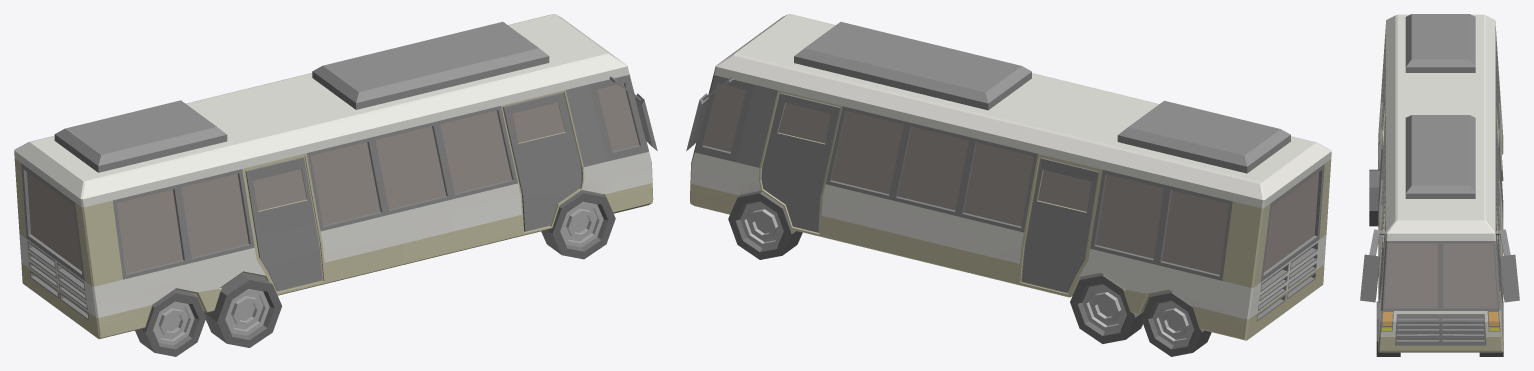
File: BusWithWheels.fbx
3 renders of one model, left to right at view 1: azimuth 30°, elevation 25°; view 2: azimuth 150°, elevation 25°; view 3: azimuth 270°, elevation 25°, orthographic. The views are drawn at different scales.
Visible parts, largest first — view 1: Bus, w5, w4, w6; view 2: Bus, w2, w1, w3; view 3: Bus, w5, w4, w1.
Part boxes in pixels (x1,y1,x2,y2): Bus: [14, 14, 657, 339]; w5: [203, 272, 281, 347]; w4: [541, 190, 615, 259]; w6: [135, 289, 206, 356]; Bus: [686, 14, 1331, 340]; w2: [1070, 273, 1143, 343]; w1: [728, 191, 802, 259]; w3: [1141, 290, 1211, 356]; Bus: [1360, 14, 1519, 352]; w5: [1369, 169, 1379, 226]; w4: [1376, 301, 1400, 356]; w1: [1479, 301, 1503, 356].
Bounding box in the file's own units: 891 × 305 × 271.
